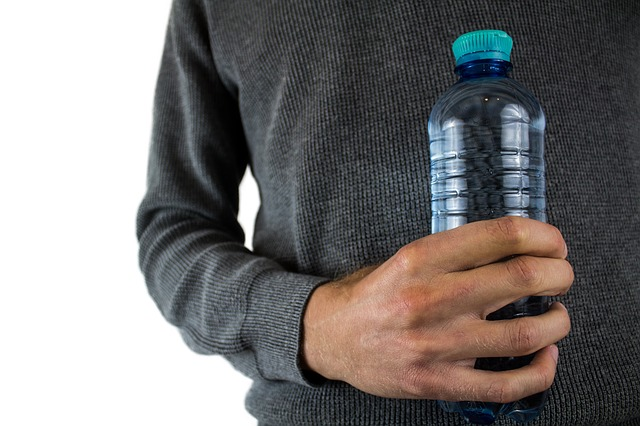plastic_bottle: (410, 23, 554, 224)
